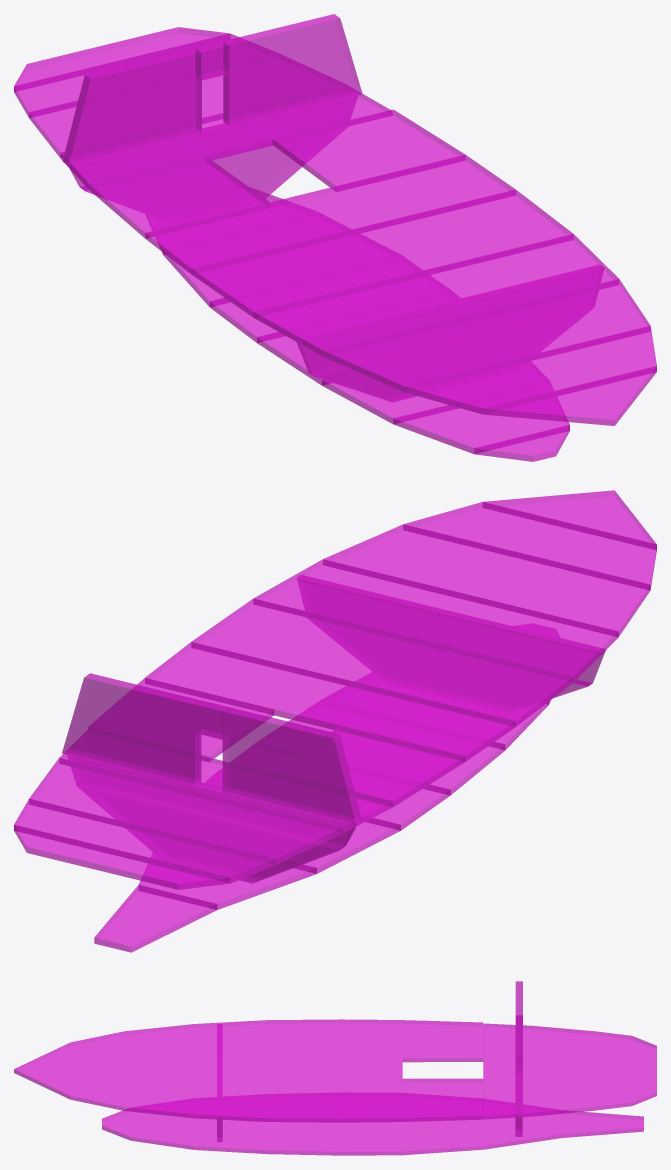
Rendered from SM_Veh_Ship_L_Floor_02_Collision.fbx.
The picture shows the model from 3 angles, top to bottom: view 1: azimuth 30°, elevation 25°; view 2: azimuth 150°, elevation 25°; view 3: azimuth 270°, elevation 25°; orthographic projection. The views are drawn at different scales.
Parts seen in each view (by area): view 1: SM_Veh_Ship_L_Floor_02_Collision; view 2: SM_Veh_Ship_L_Floor_02_Collision; view 3: SM_Veh_Ship_L_Floor_02_Collision.
Part boxes in pixels (x1,y1,x2,y2): SM_Veh_Ship_L_Floor_02_Collision: (14, 14, 656, 461); SM_Veh_Ship_L_Floor_02_Collision: (14, 490, 656, 952); SM_Veh_Ship_L_Floor_02_Collision: (14, 981, 656, 1155).
Size of the model in its own units: 1211 by 605 by 3310.
